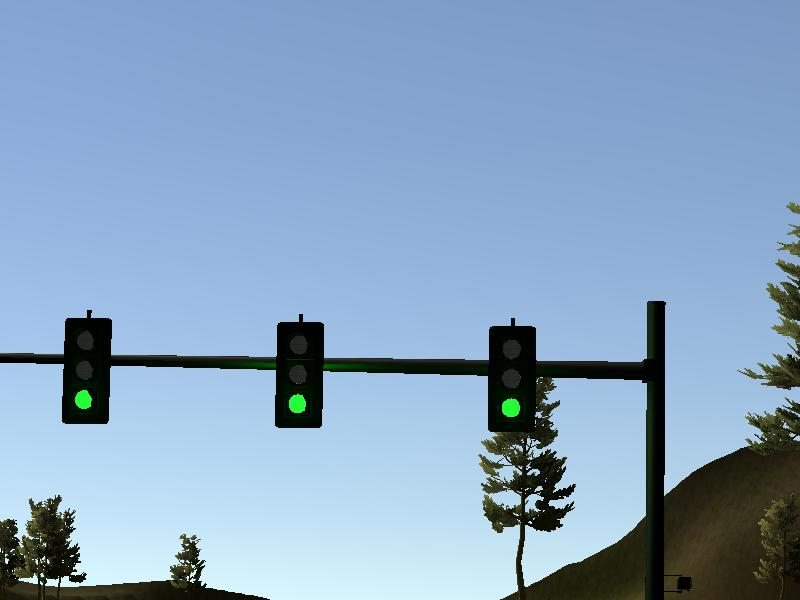green: (61, 317, 111, 426), (274, 321, 324, 430), (487, 325, 537, 434)
